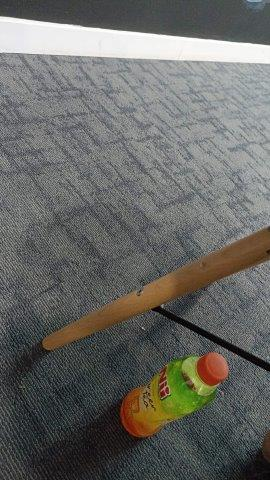botolplastik: (121, 353, 229, 436)
